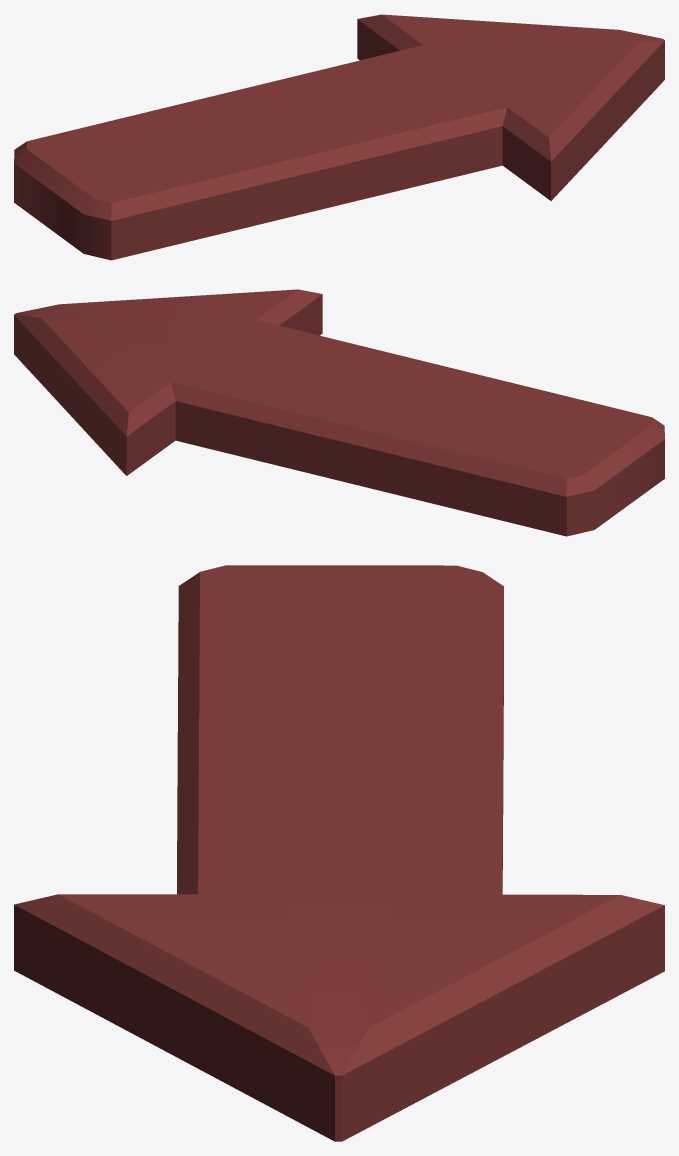
File: arrow.glb
3 views of the same model, one above another, from view 1: azimuth 30°, elevation 25°; view 2: azimuth 150°, elevation 25°; view 3: azimuth 270°, elevation 25° (orthographic). The views are drawn at different scales.
Parts seen in each view (by area): view 1: Arrow; view 2: Arrow; view 3: Arrow.
Part boxes in pixels (left/top/right/bottom): Arrow: left=14, top=14, right=664, bottom=260; Arrow: left=14, top=289, right=664, bottom=536; Arrow: left=14, top=565, right=664, bottom=1141.
Size of the model in its own units: 1.85 by 0.1473 by 1.02.
